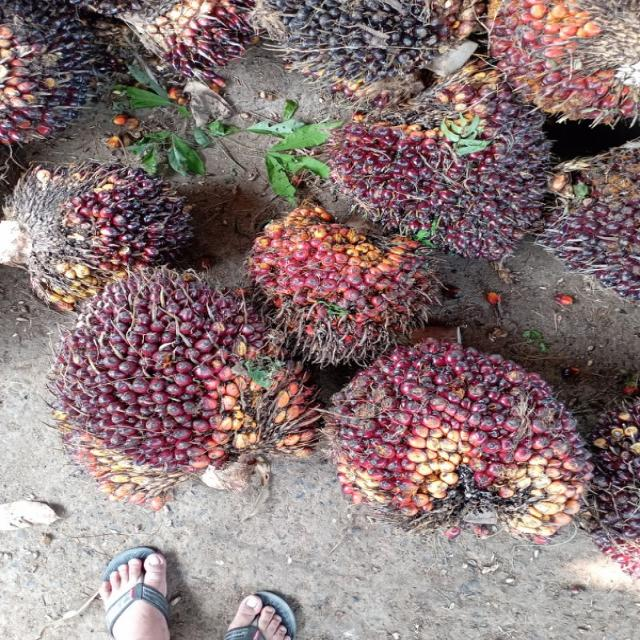fraksi 1: (15, 204, 311, 519), (328, 297, 600, 562), (222, 149, 452, 397)
